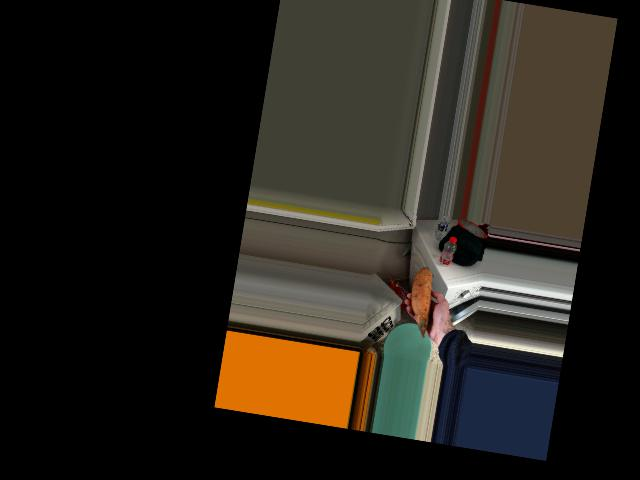sweet_potato: (404, 266, 436, 328)
